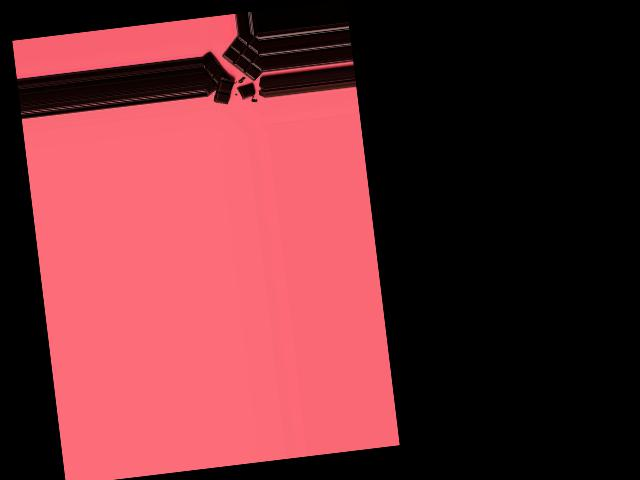chocolate: (203, 32, 265, 102)
